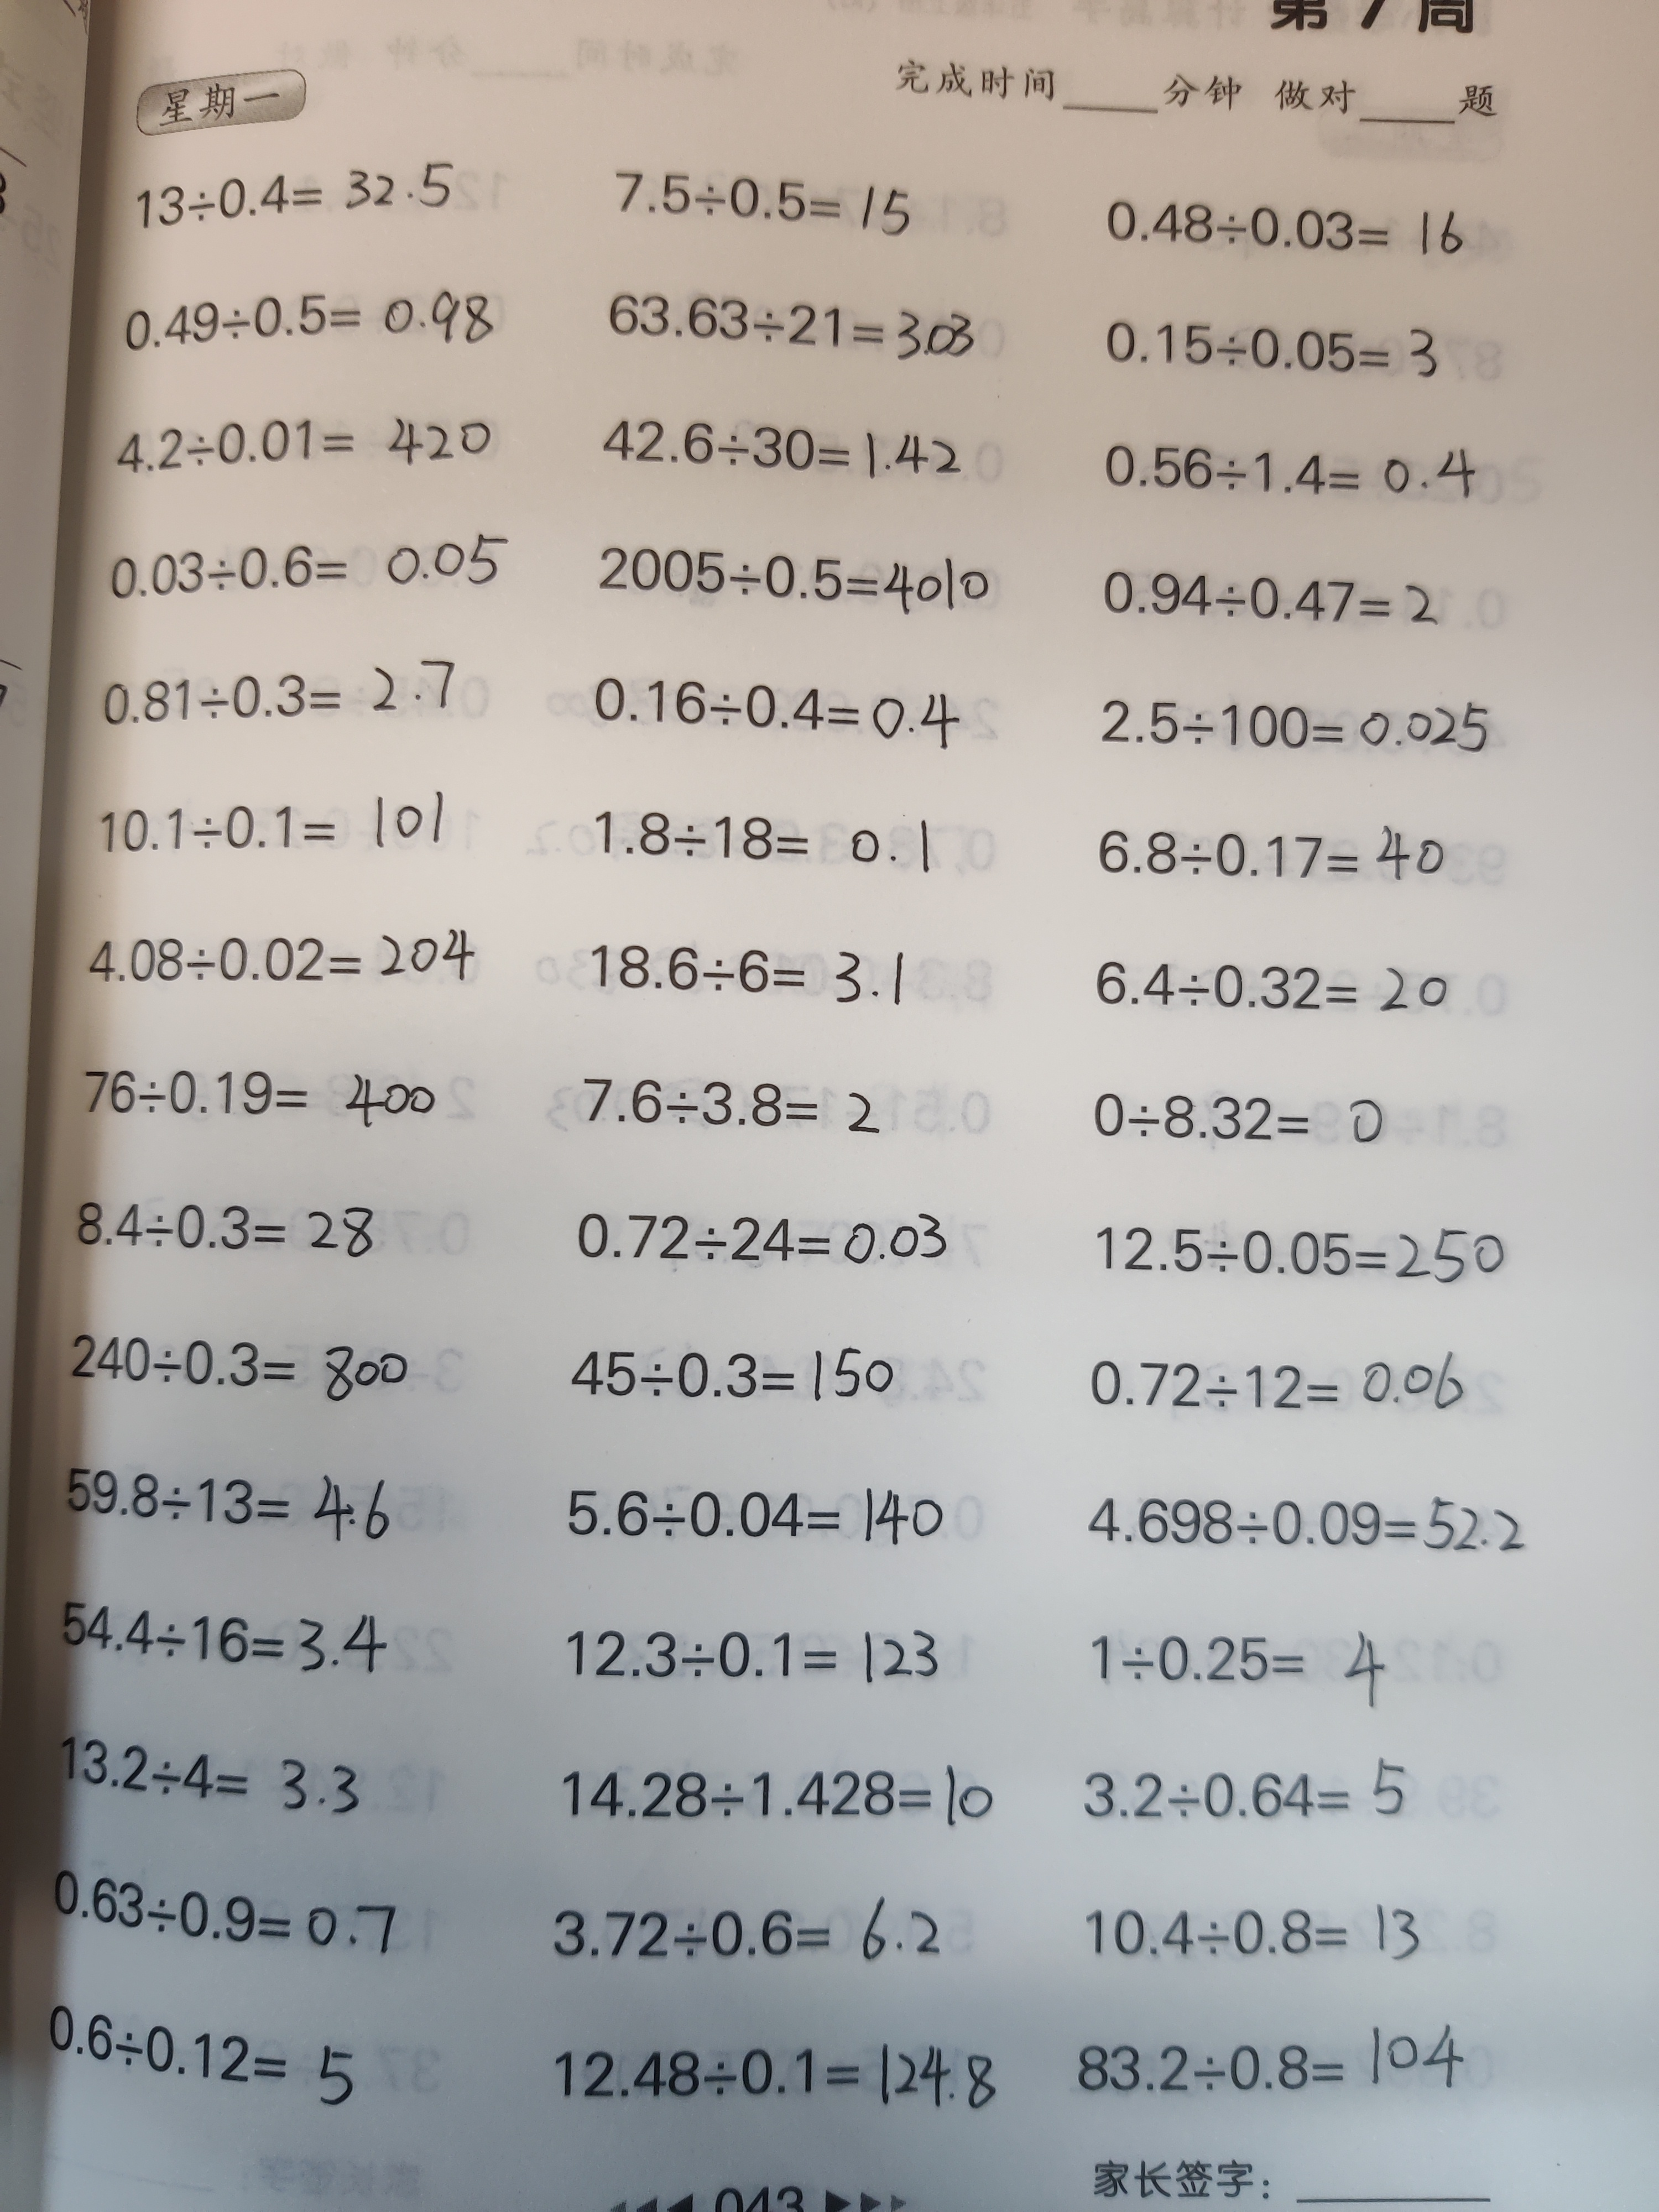equation: (1072, 158, 1481, 282), (1065, 1461, 1537, 1568), (537, 2020, 1012, 2125), (1061, 2005, 1478, 2121), (540, 1461, 962, 1573), (580, 394, 983, 510), (547, 1883, 960, 1993), (1087, 676, 1509, 782), (598, 779, 955, 904), (547, 1176, 958, 1282), (549, 1750, 1004, 1846), (1075, 291, 1466, 402), (580, 531, 1006, 632), (80, 763, 458, 874), (44, 1857, 408, 1972), (587, 270, 990, 373), (59, 1317, 432, 1426), (1086, 942, 1467, 1049), (42, 1998, 378, 2118), (92, 392, 502, 488), (556, 1317, 908, 1426), (85, 643, 472, 742), (579, 658, 965, 758), (1072, 1339, 1480, 1433), (52, 1587, 408, 1693), (598, 134, 929, 247), (1066, 1743, 1424, 1848), (582, 918, 927, 1026), (54, 1453, 410, 1557), (54, 1170, 401, 1277), (80, 911, 502, 998), (579, 1043, 908, 1155), (52, 1717, 371, 1831), (1086, 1207, 1525, 1289), (1073, 808, 1455, 902), (1082, 556, 1455, 650), (554, 1618, 950, 1705), (1072, 1888, 1429, 1984), (1080, 425, 1481, 510), (110, 282, 509, 368), (63, 1049, 436, 1137), (98, 524, 525, 601), (1054, 1618, 1412, 1709), (1080, 1069, 1399, 1167), (110, 146, 460, 233)
